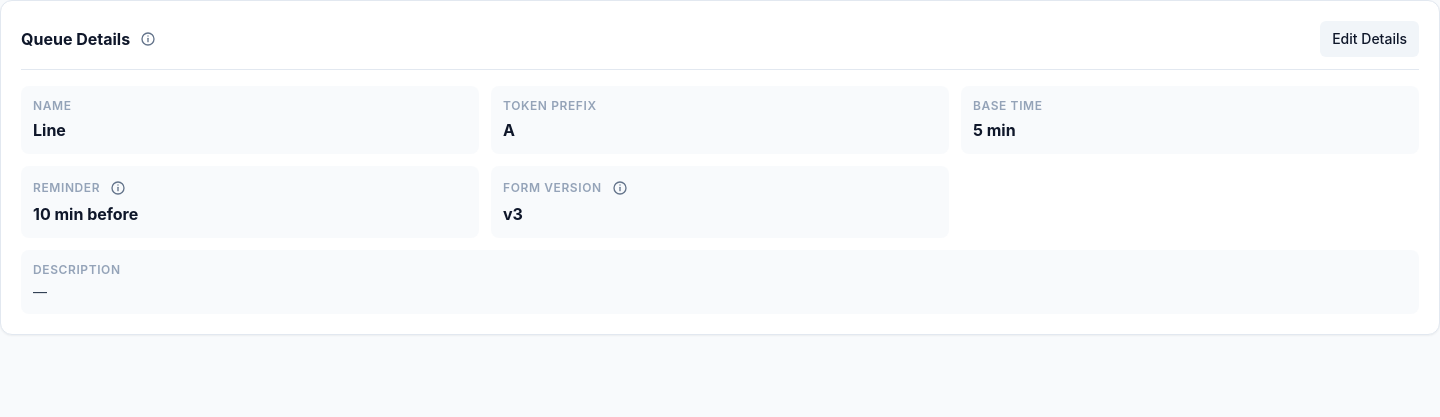
Test: QueueDetailsCard — what is shown is what can be edited › keeps form version read-only and refuses an empty prefix
Click the button "Edit Details": (1370, 39) [1320, 21, 1419, 57]
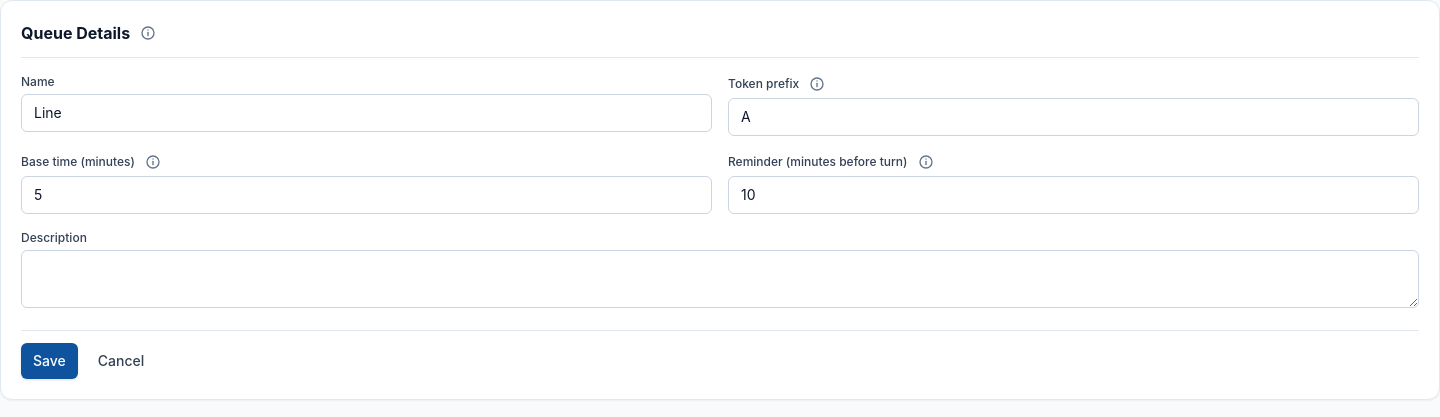
Expected: the field labelled "Form version" is gone
Clear the field labelled "Token prefix": (1074, 117) [728, 98, 1419, 136]
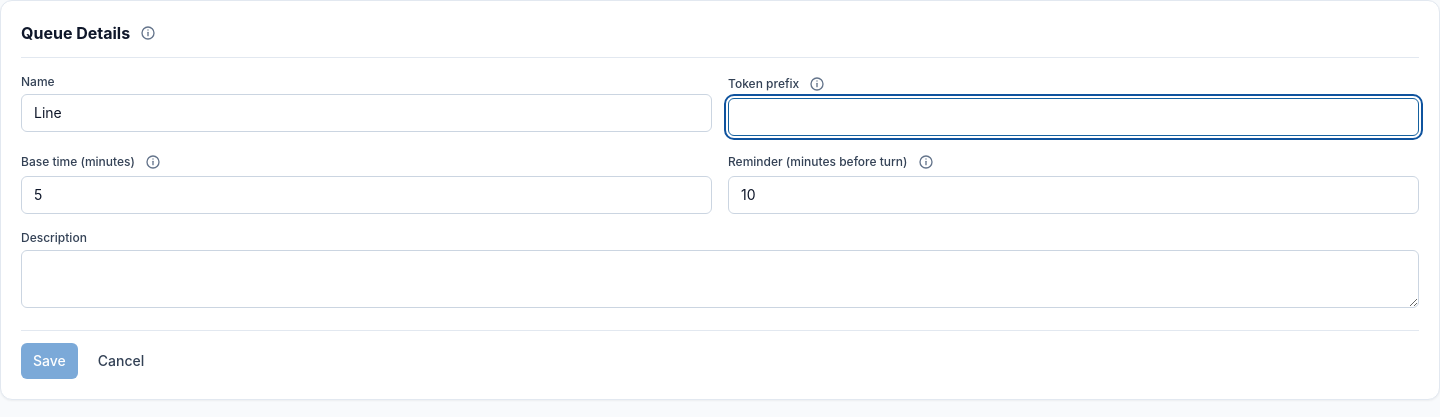
Expected: the button "Save" is disabled, [21, 343, 78, 379]
